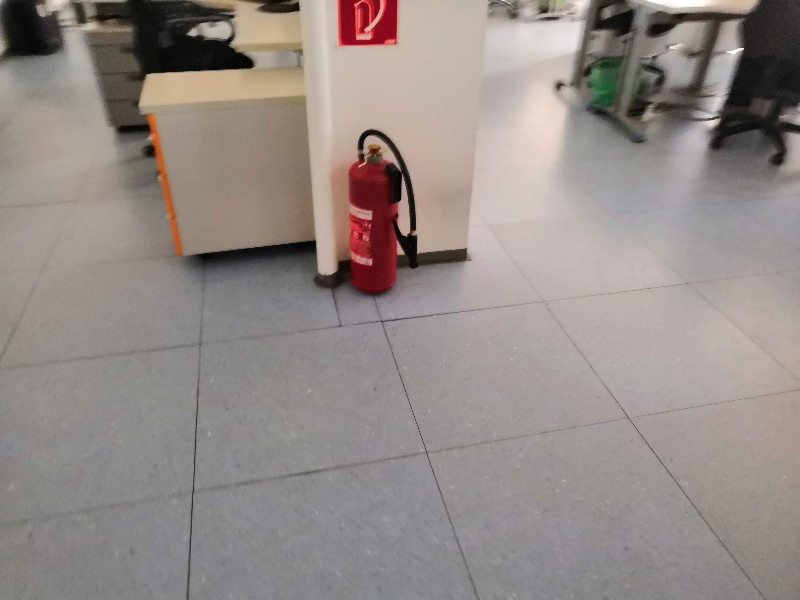vataparat: (347, 129, 419, 294)
